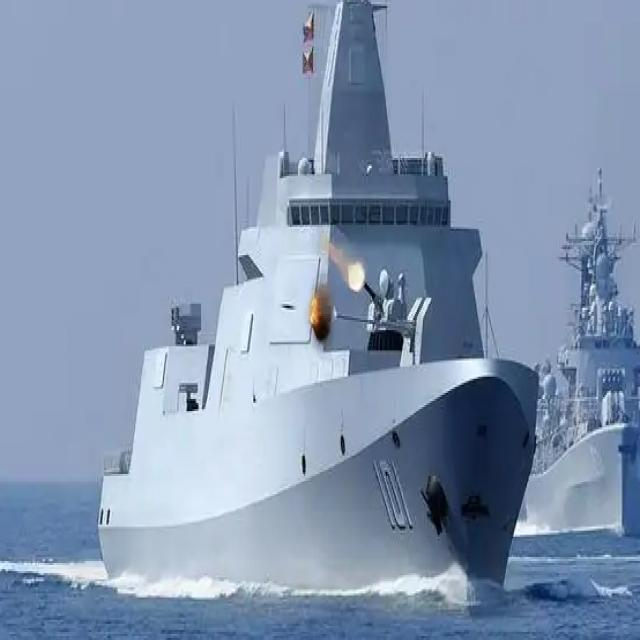navalvessels: (90, 0, 543, 593), (516, 172, 640, 549)
